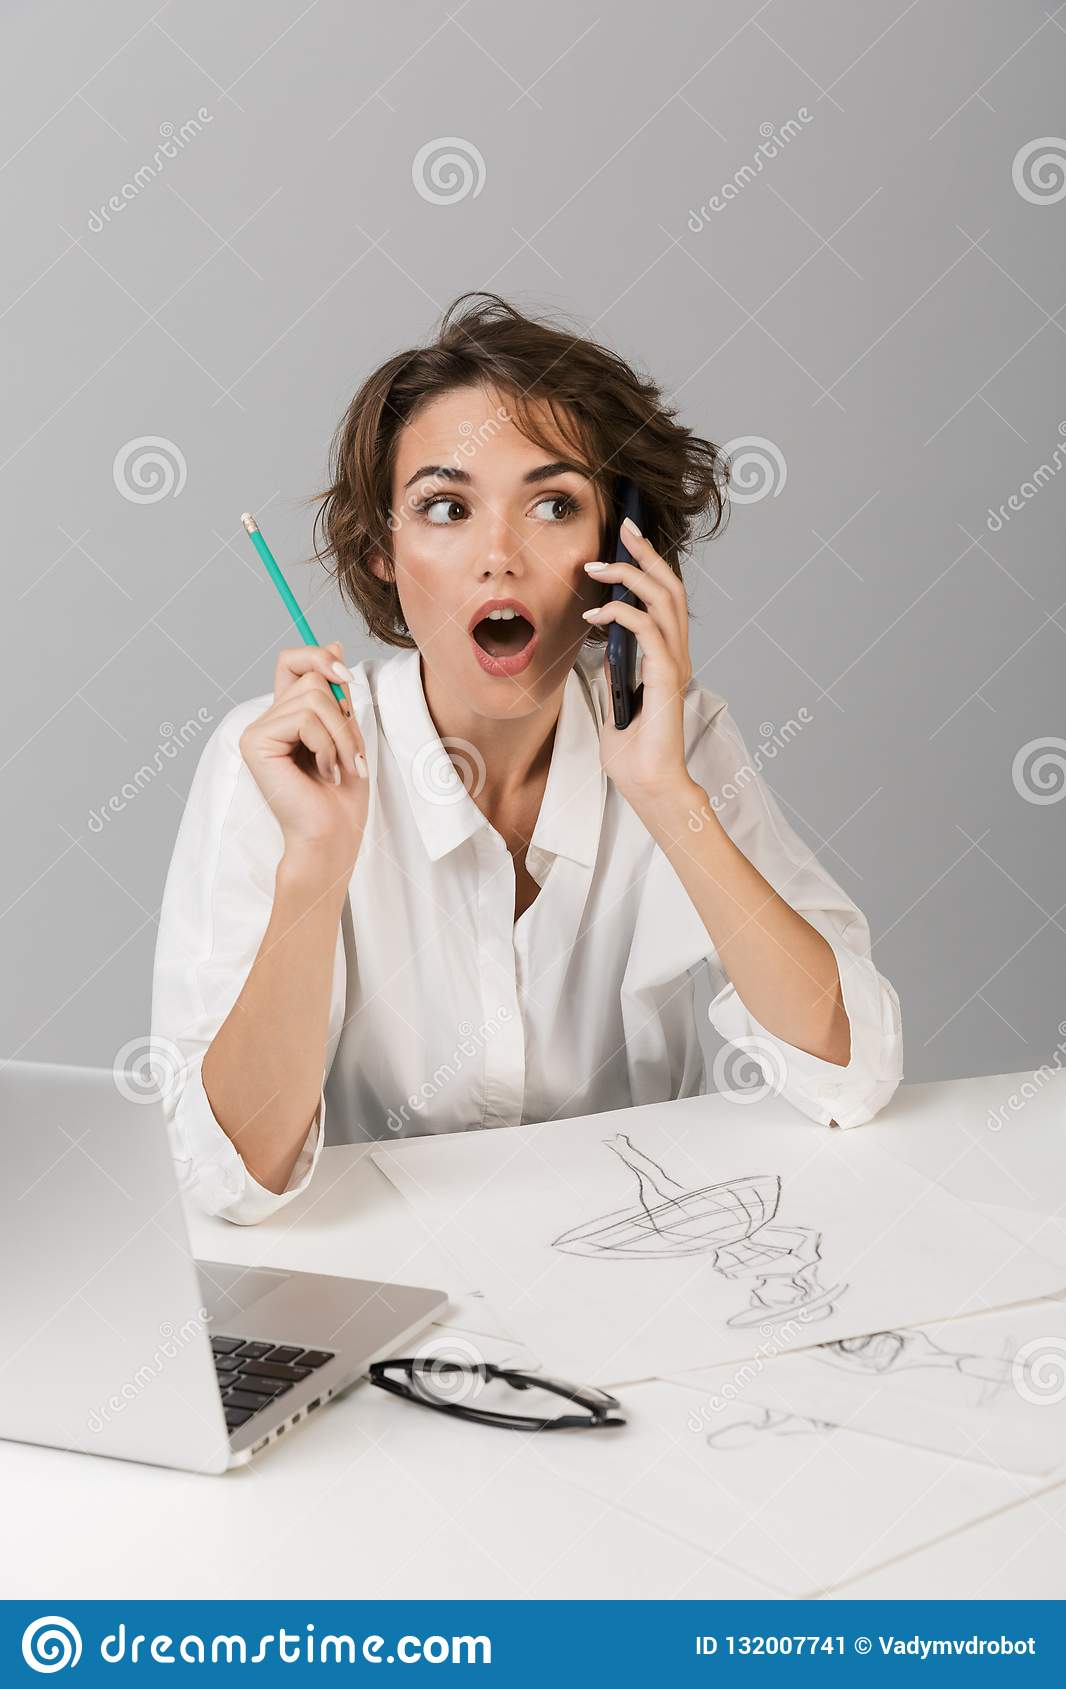phone: (597, 469, 655, 729)
talk: (395, 460, 688, 802)
